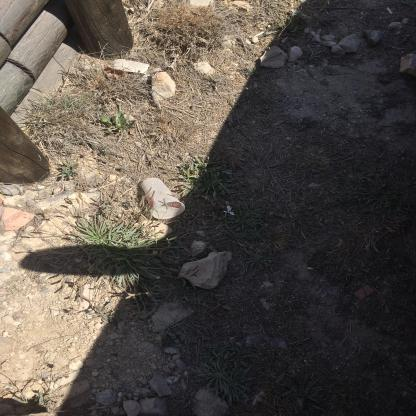plastik: (143, 179, 187, 221)
